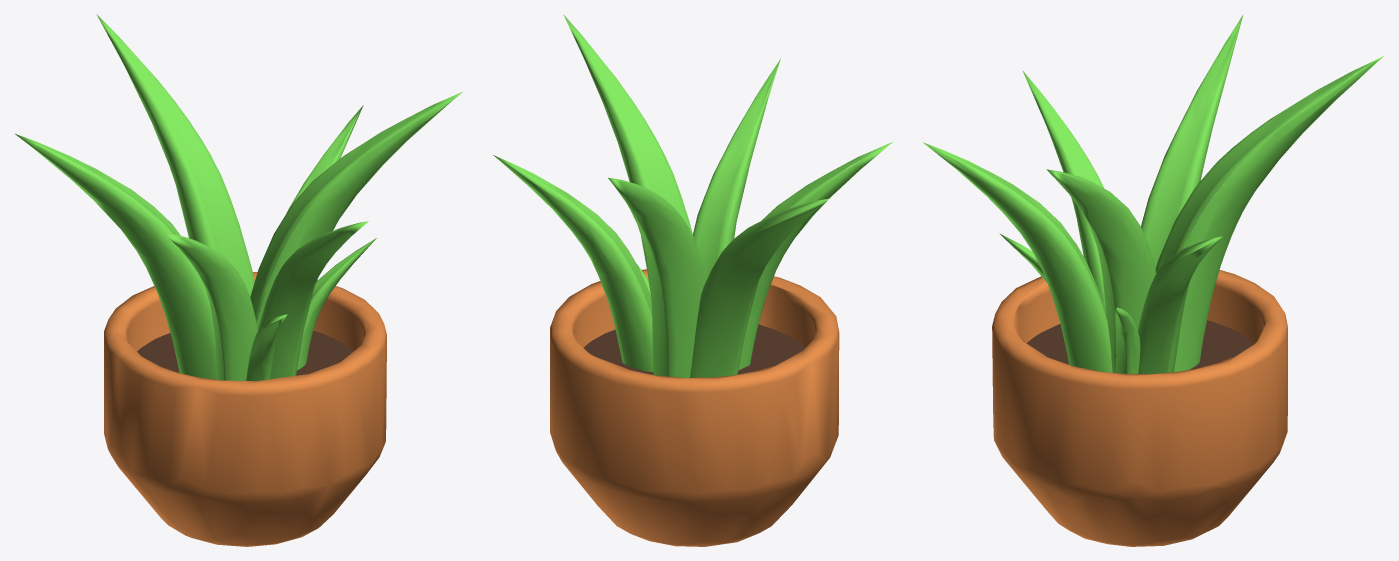
The model's file is houseplant.glb.
The picture shows the model from 3 angles, left to right: view 1: azimuth 30°, elevation 25°; view 2: azimuth 150°, elevation 25°; view 3: azimuth 270°, elevation 25°; orthographic projection. The views are drawn at different scales.
Parts seen in each view (by area): view 1: Pot, Leaves, Soil; view 2: Pot, Leaves, Soil; view 3: Pot, Leaves, Soil.
Part boxes in pixels (x1,y1,x2,y2): Pot: (104, 272, 386, 546); Leaves: (15, 14, 463, 381); Soil: (137, 331, 353, 375); Pot: (550, 269, 839, 546); Leaves: (493, 14, 892, 377); Soil: (583, 324, 805, 374); Pot: (992, 270, 1287, 546); Leaves: (923, 15, 1383, 374); Soil: (1026, 320, 1253, 369).
Bounding box in the file's own units: 1.03 × 1.17 × 1.11.
